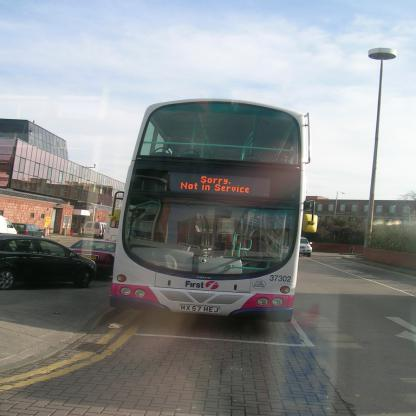Bus: (112, 98, 319, 323)
